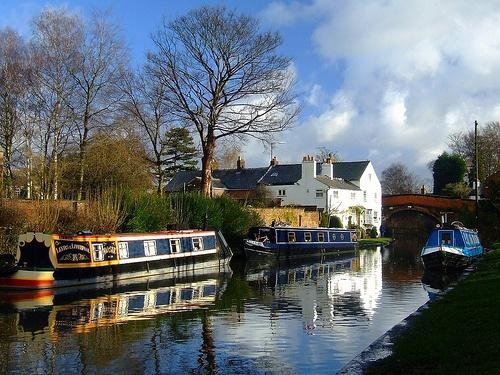boat: (2, 227, 233, 296), (243, 227, 360, 264), (422, 226, 486, 273)
